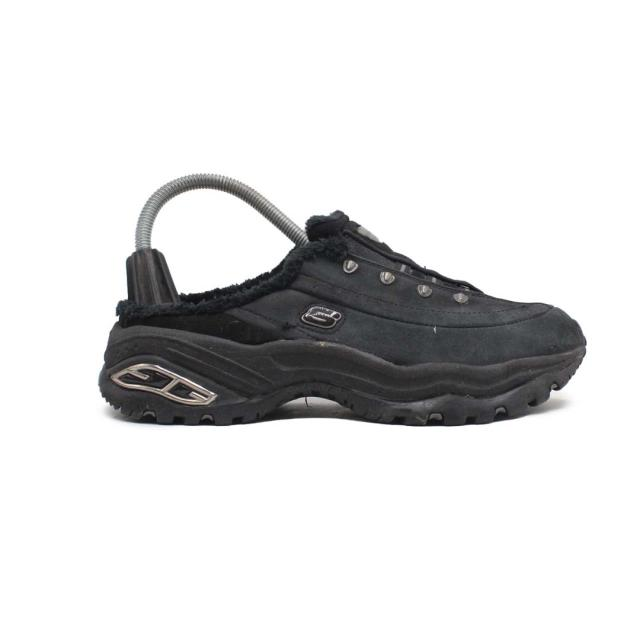heel: (113, 250, 216, 331)
midsole: (99, 324, 587, 427)
uppersole: (208, 207, 589, 367)
